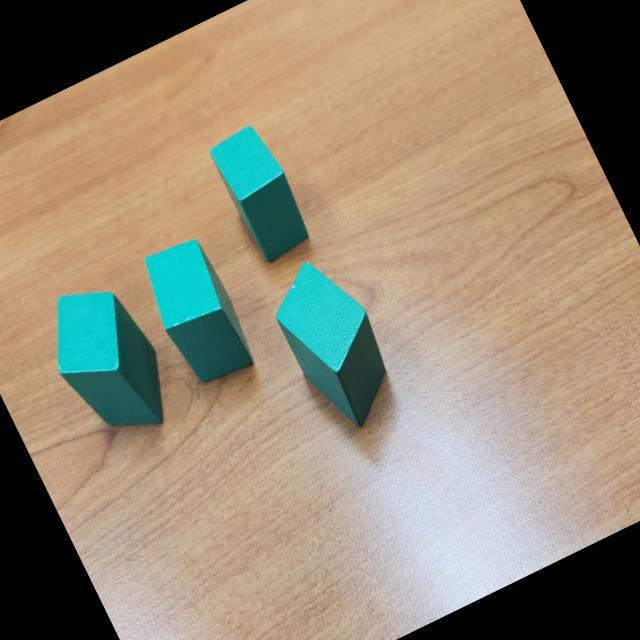green: (257, 247, 411, 441), (29, 266, 186, 453), (130, 230, 260, 392), (204, 119, 317, 266)
